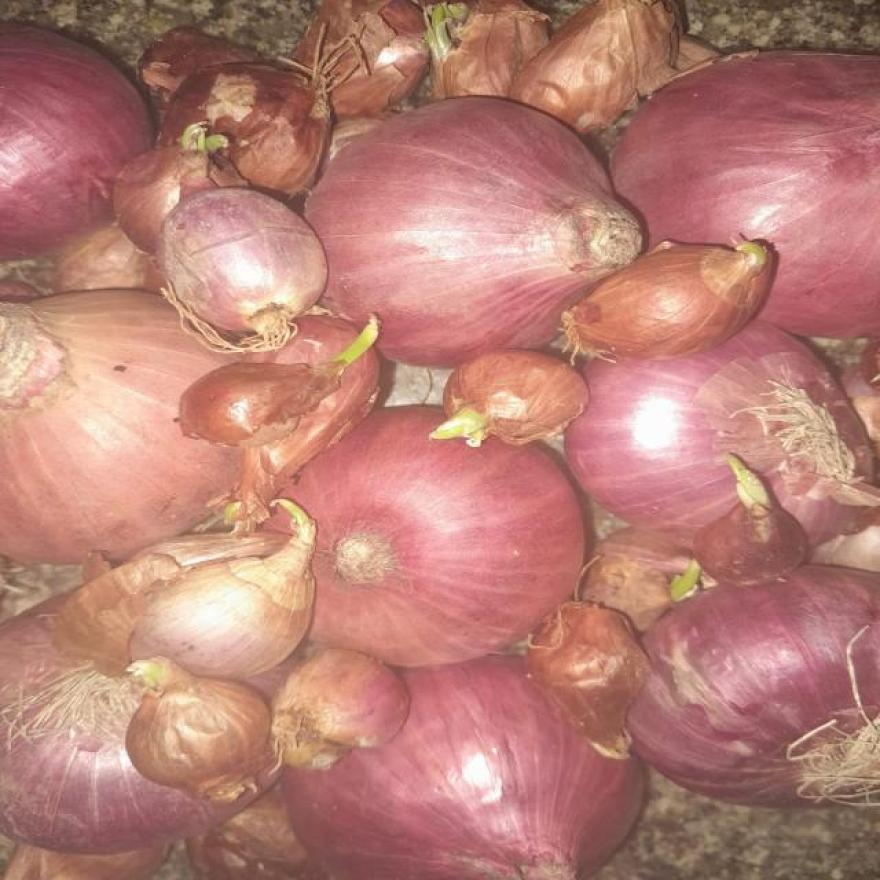Sprouted: (688, 449, 798, 522), (320, 312, 400, 384), (399, 15, 485, 79), (267, 494, 317, 569), (433, 418, 495, 448), (183, 120, 231, 155), (662, 575, 720, 602)
